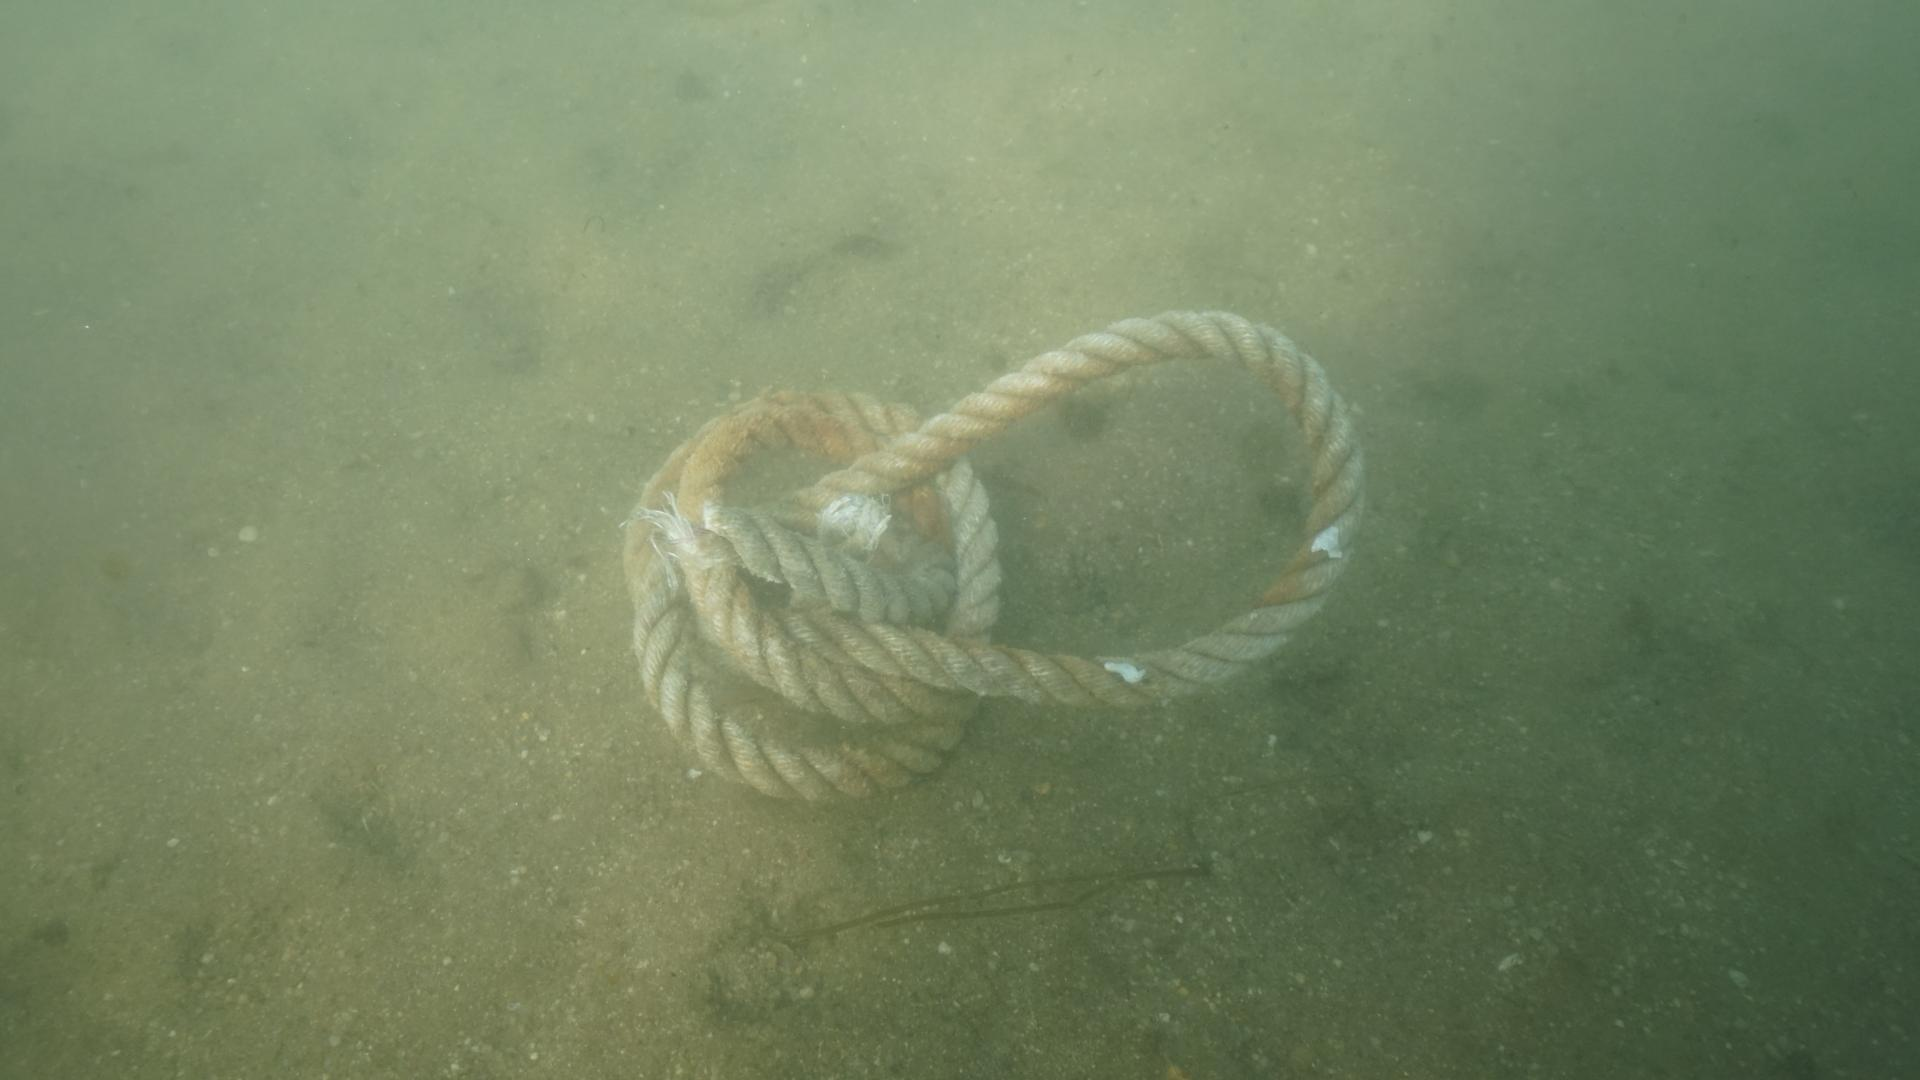bundle of ropes: (608, 297, 1377, 814)
